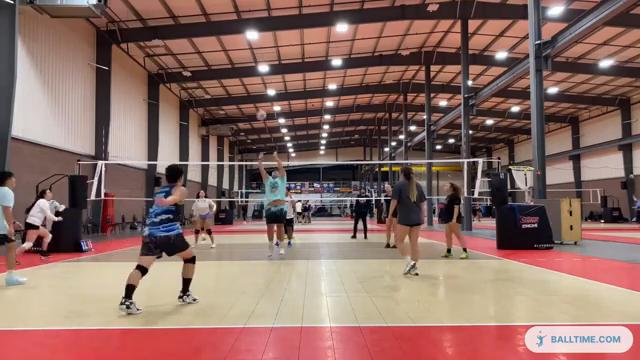Player: (120, 164, 198, 314), (390, 167, 425, 274), (16, 189, 61, 258), (0, 171, 26, 285), (441, 182, 467, 258), (192, 190, 215, 247), (351, 188, 370, 239), (384, 185, 396, 247), (285, 189, 294, 246)
Set: (253, 146, 291, 260)
ball: (254, 107, 268, 122)
